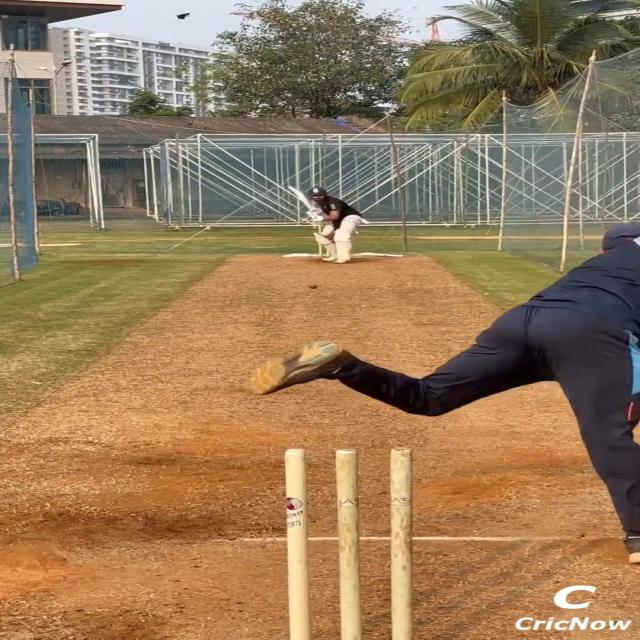ball: (308, 284, 318, 289)
stump: (281, 447, 415, 640)
